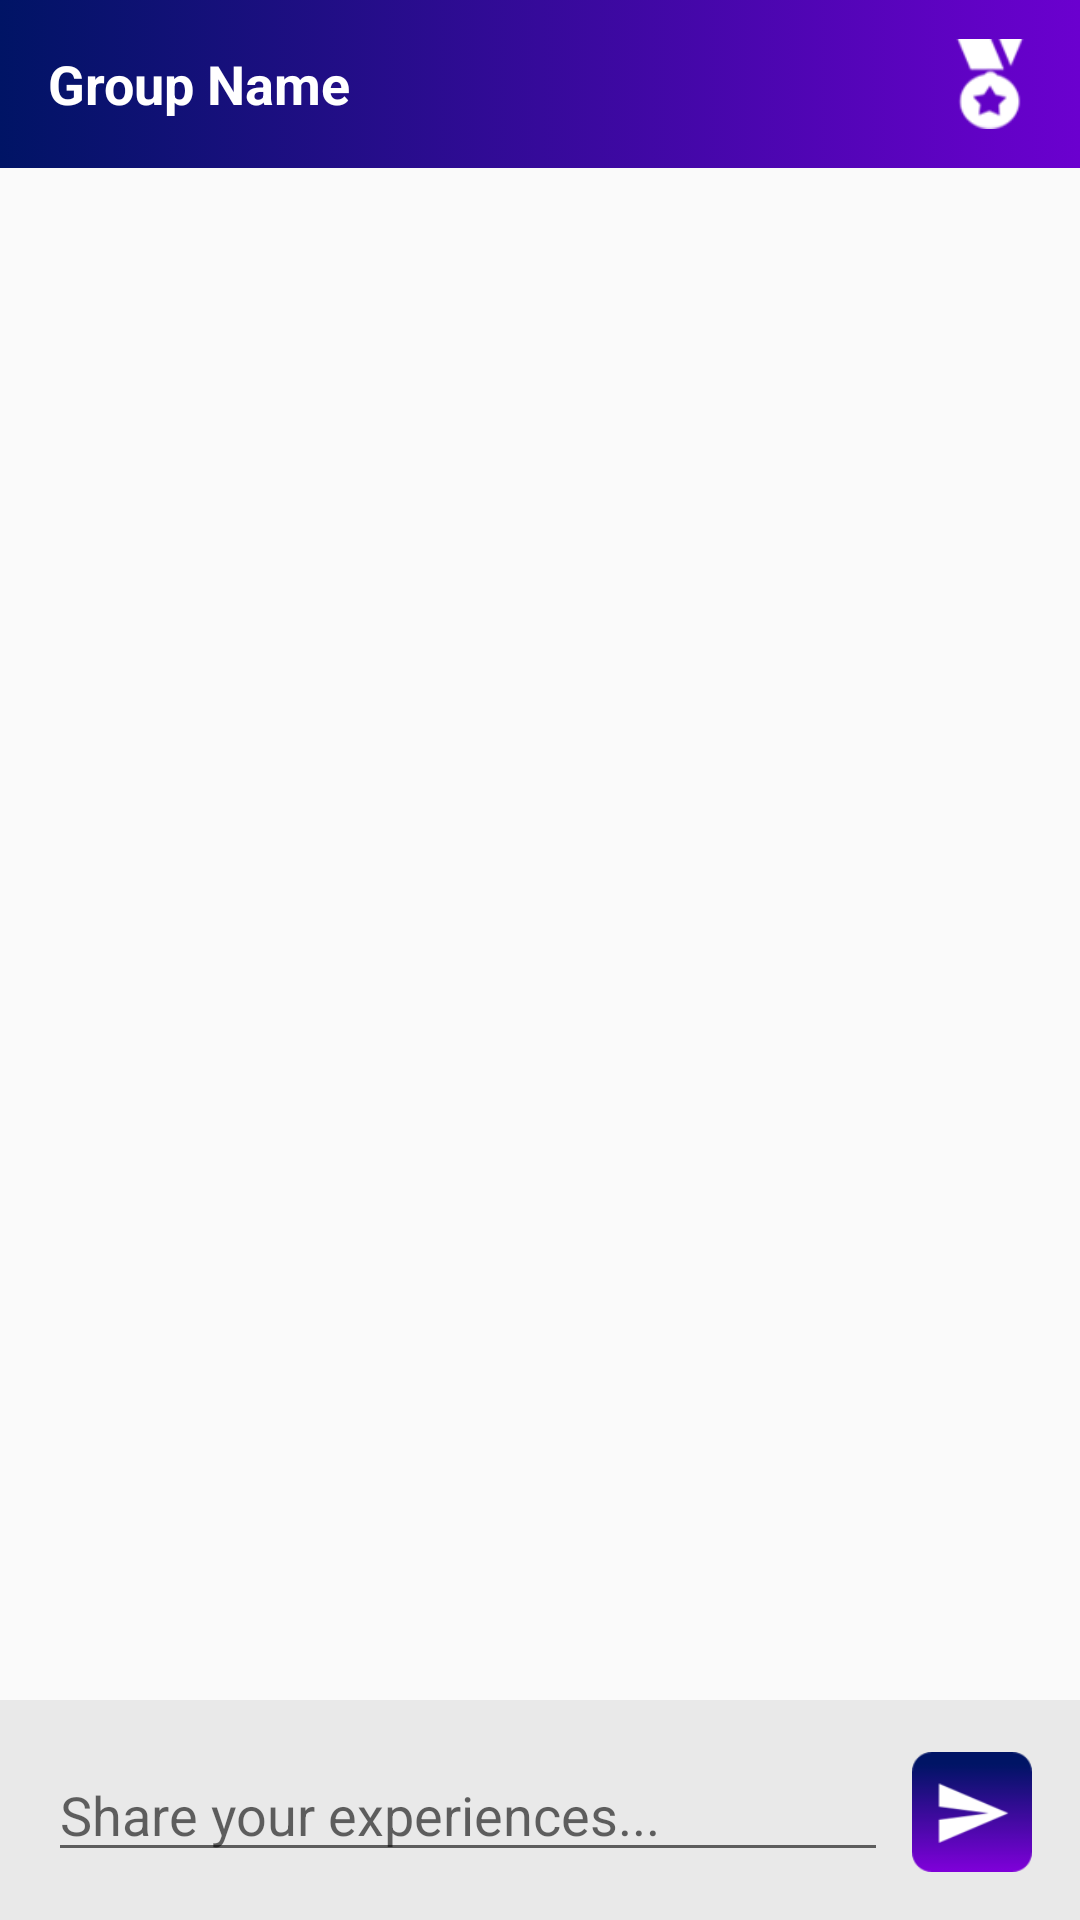

Screen size 1080*1920. Icon name, then its box in pixels as (x1=x1, y1=y1, x2=x2, y2=y2):
medal: (x1=956, y1=39, x2=1023, y2=129)
send: (x1=912, y1=1752, x2=1032, y2=1872)
